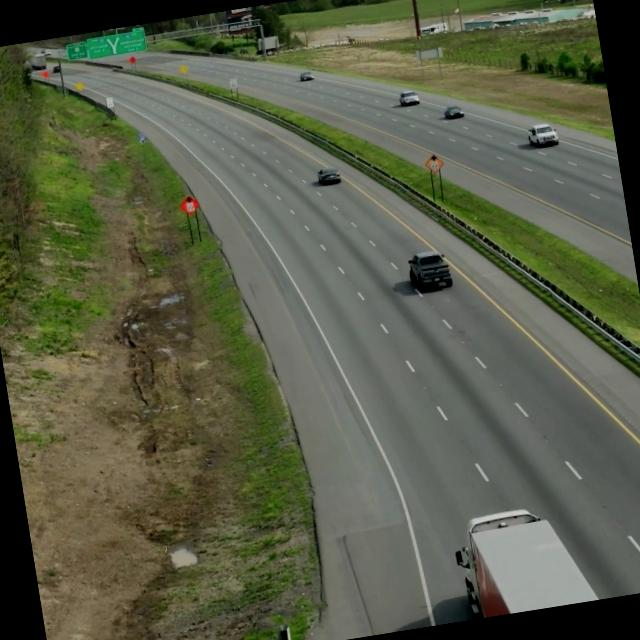Vehicle: (405, 243, 453, 296), (525, 118, 562, 154), (312, 163, 346, 192)
